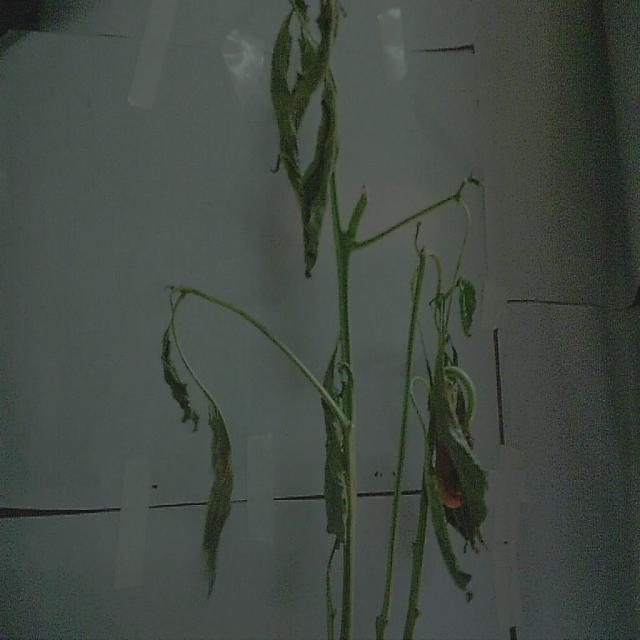Leaf: (428, 326, 493, 555), (297, 79, 337, 274), (200, 390, 234, 602), (268, 4, 306, 182), (322, 343, 351, 538), (160, 314, 198, 428), (312, 0, 339, 66)
